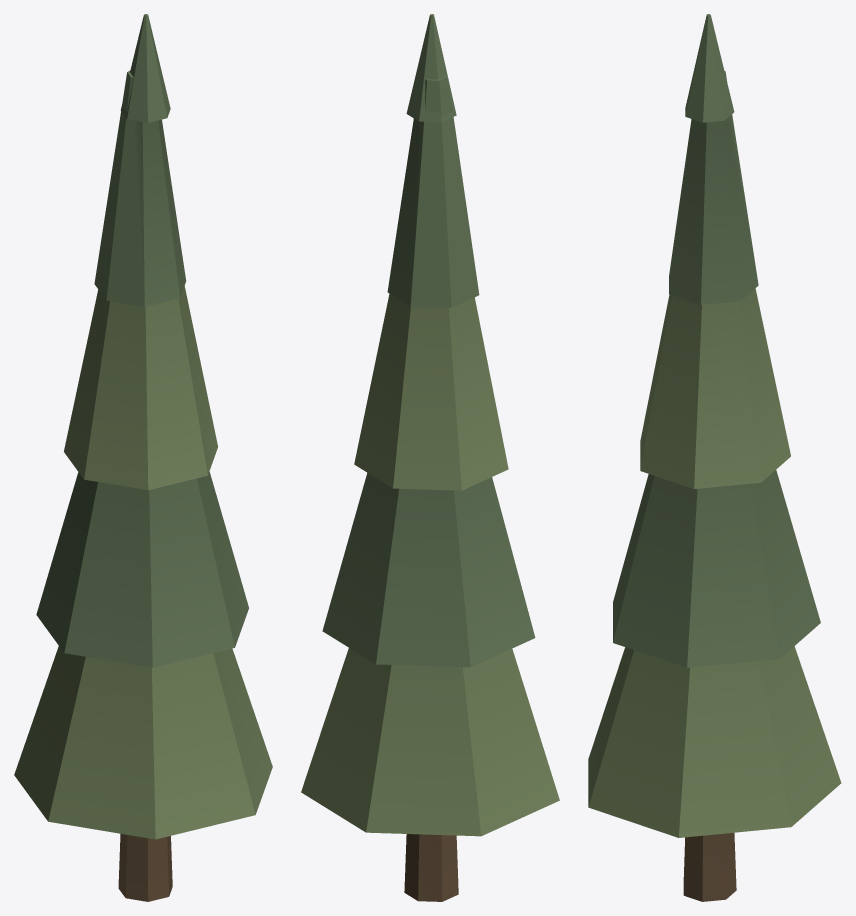
The model's file is cypress.glb.
The picture shows the model from 3 angles, left to right: view 1: azimuth 30°, elevation 25°; view 2: azimuth 150°, elevation 25°; view 3: azimuth 270°, elevation 25°; orthographic projection.
Visible parts, largest first — view 1: cypress.001; view 2: cypress.001; view 3: cypress.001.
Part boxes in pixels (x1=…): cypress.001: x1=14, y1=14, x2=272, y2=901; cypress.001: x1=301, y1=14, x2=559, y2=901; cypress.001: x1=588, y1=14, x2=841, y2=901.
Bounding box in the file's own units: 1.21 × 4.5 × 1.18.
